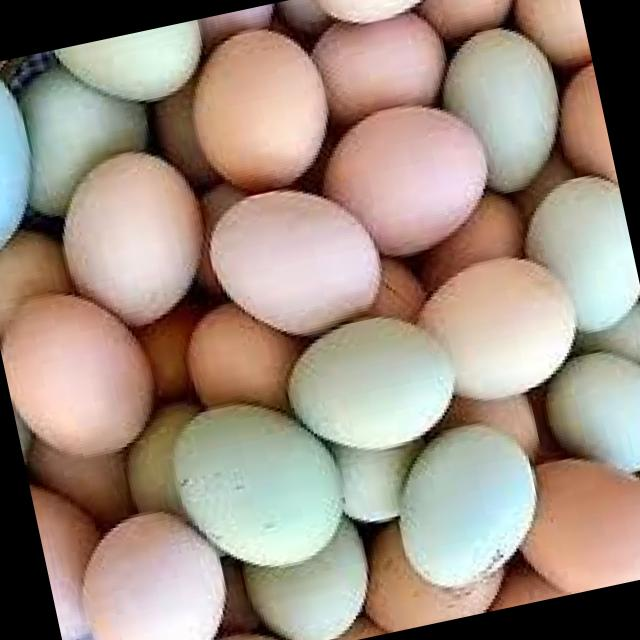Egg: (192, 126, 430, 430), (144, 376, 368, 610), (25, 133, 233, 355), (257, 304, 475, 512), (378, 232, 590, 439), (322, 70, 516, 294), (155, 12, 361, 212), (0, 256, 181, 468), (370, 411, 555, 612), (423, 13, 590, 230), (51, 494, 249, 640), (522, 157, 640, 350), (519, 340, 640, 516), (519, 430, 640, 598), (0, 53, 79, 276)
